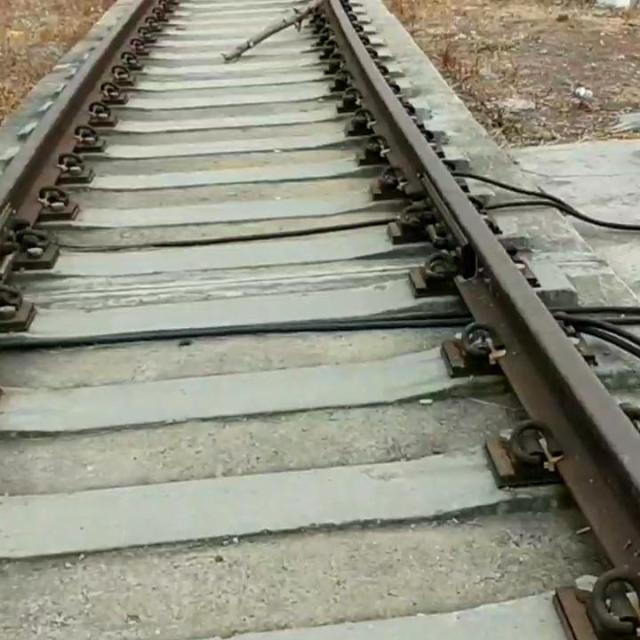danger: (214, 0, 351, 76)
rail: (300, 0, 640, 640), (1, 0, 193, 383)
